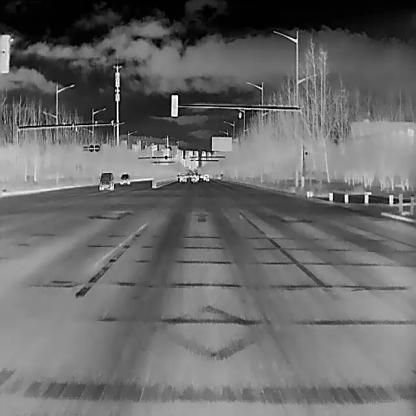car: (99, 172, 113, 190), (119, 172, 130, 184), (178, 171, 186, 182), (189, 173, 198, 182), (202, 172, 209, 180)
